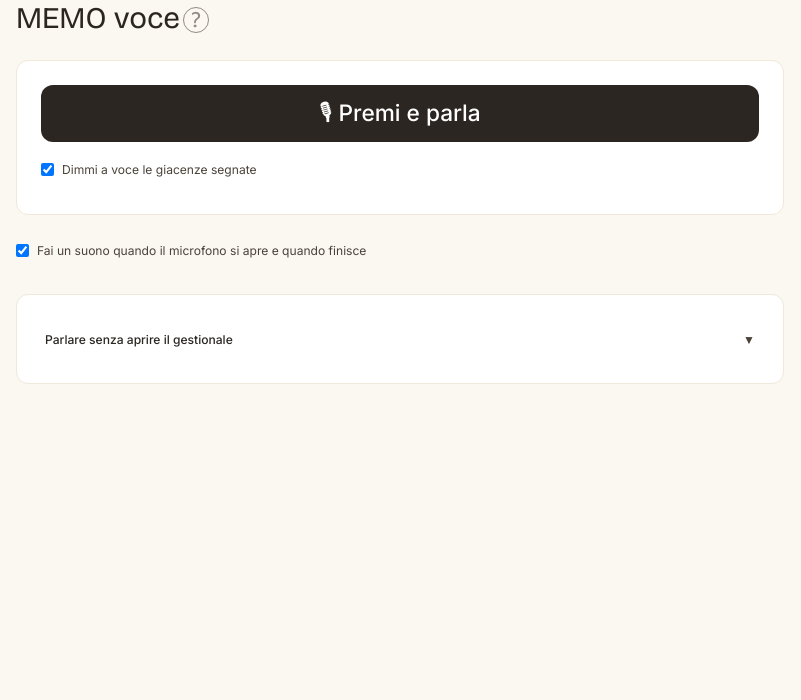
⚠️ fra la scrittura e la rilettura › 🔴 una rilettura vecchia non sovrascrive il riscontro di una dettatura NUOVA
Click the button "🎙 Premi e parla" at [400, 114], box [41,85,759,142]
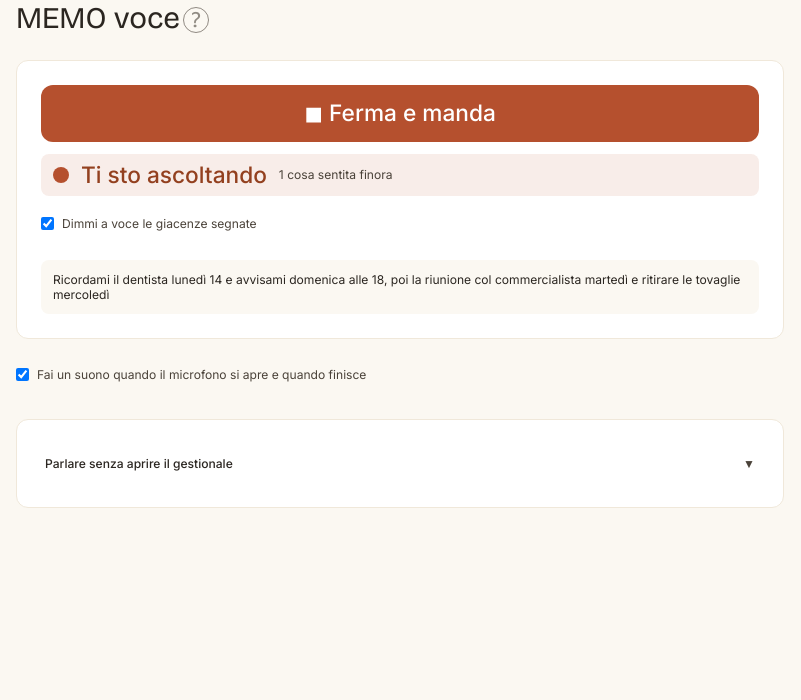
Click the button "◼ Ferma e manda" at [400, 114], box [41,85,759,142]
(page scrolled)
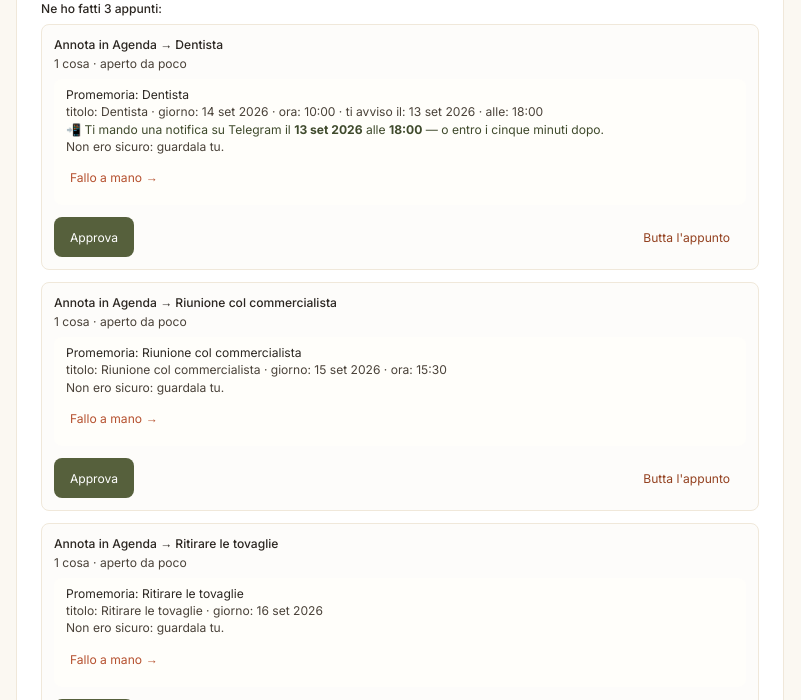
Now the heading "Ne ho fatti 3 appunti:" is shown, box [41,1,162,16]
Click the button "Approva" below "Promemoria: Riunione col commercialista" at [94, 478], box [54,458,134,498]
(page scrolled)
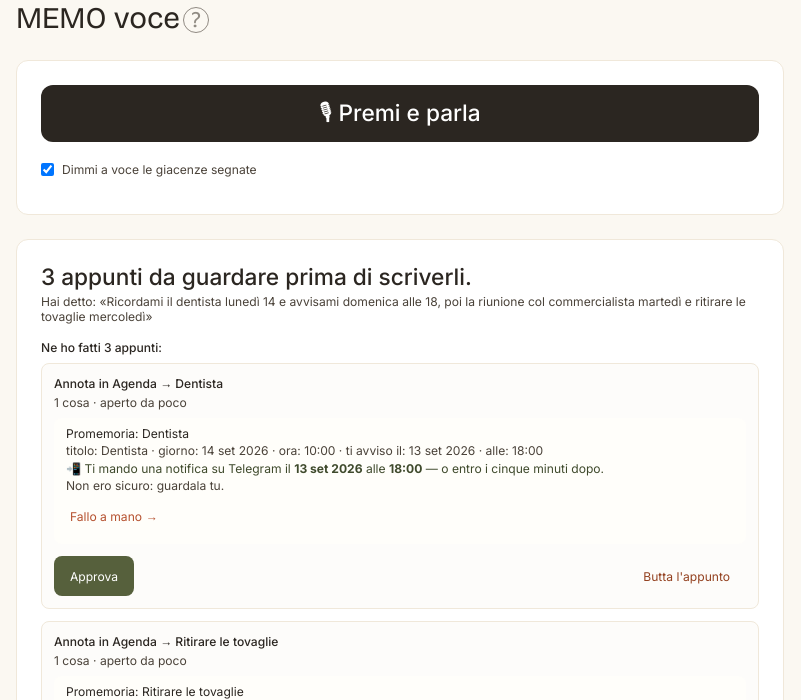
Click the button "🎙 Premi e parla" at [400, 114], box [41,85,759,142]
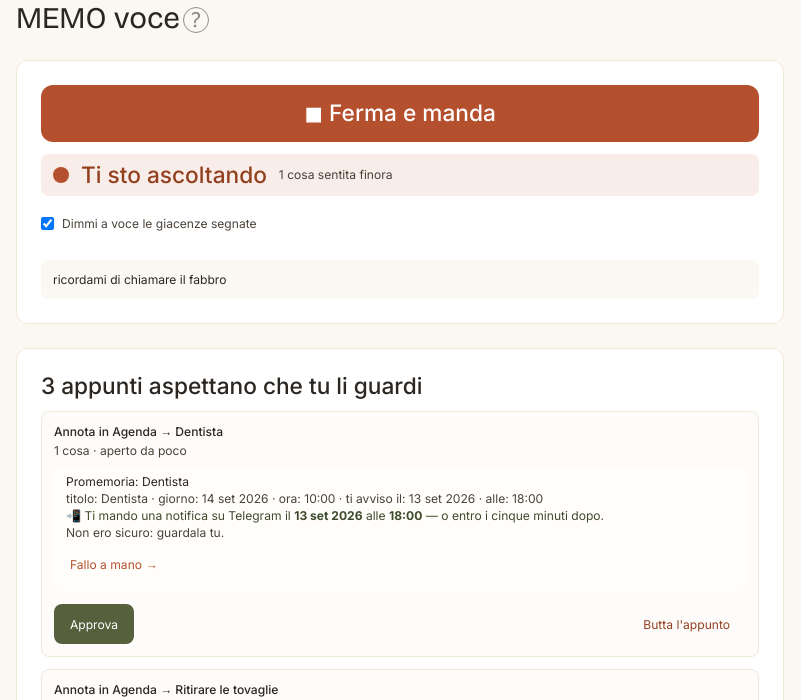
Click the button "◼ Ferma e manda" at [400, 114], box [41,85,759,142]
(page scrolled)
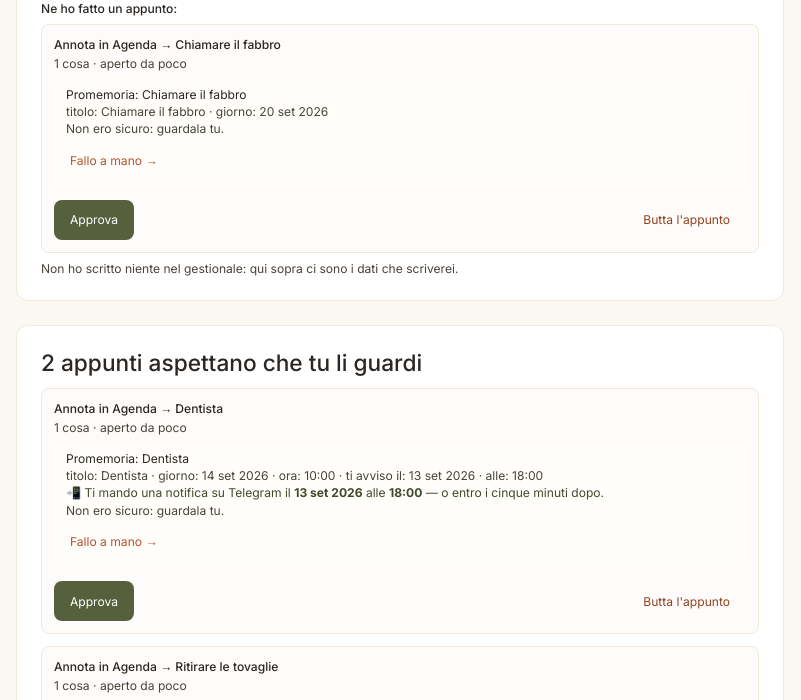
Expected: the heading "Ne ho fatti 3 appunti" is not shown
Now the heading "Ne ho fatto un appunto:" is shown, box [41,1,177,16]
